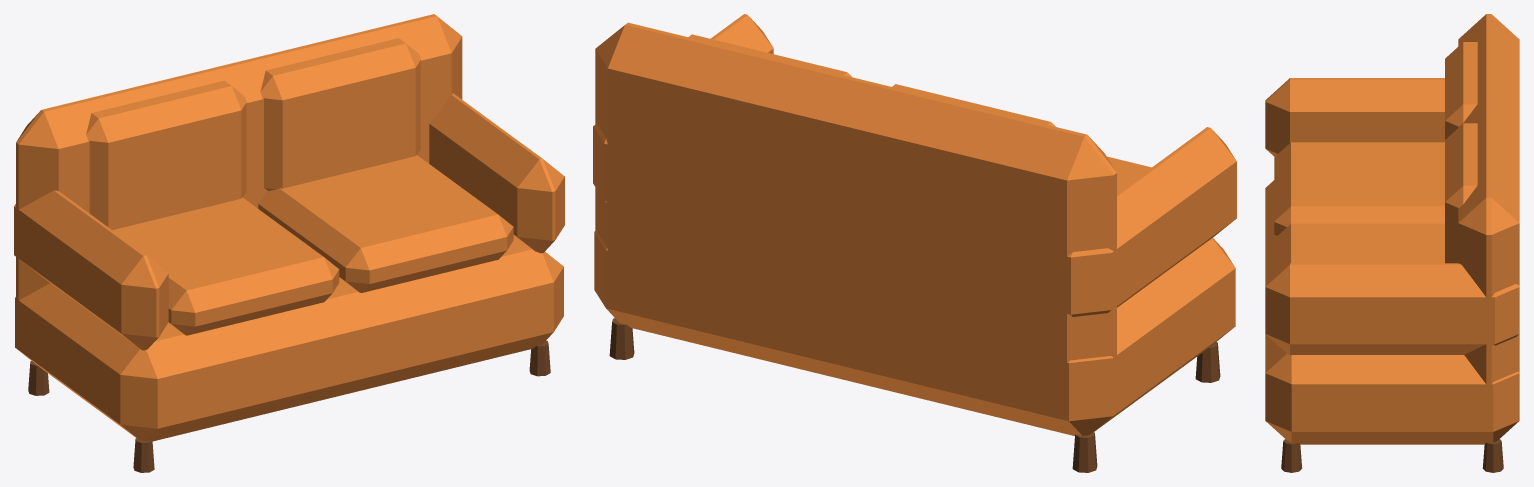
The model's file is OrangeSofa.fbx.
The picture shows the model from 3 angles, left to right: view 1: azimuth 30°, elevation 25°; view 2: azimuth 150°, elevation 25°; view 3: azimuth 270°, elevation 25°; orthographic projection. The views are drawn at different scales.
Visible parts, largest first — view 1: OrangeSofa; view 2: OrangeSofa; view 3: OrangeSofa.
Boxes of the visible parts, x1,y1,x2,y2 form: OrangeSofa: [14, 14, 564, 472]; OrangeSofa: [593, 14, 1236, 472]; OrangeSofa: [1265, 14, 1519, 472].
Size of the model in its own units: 5.6 by 3.4 by 2.9.
1 material, 1 textured.
